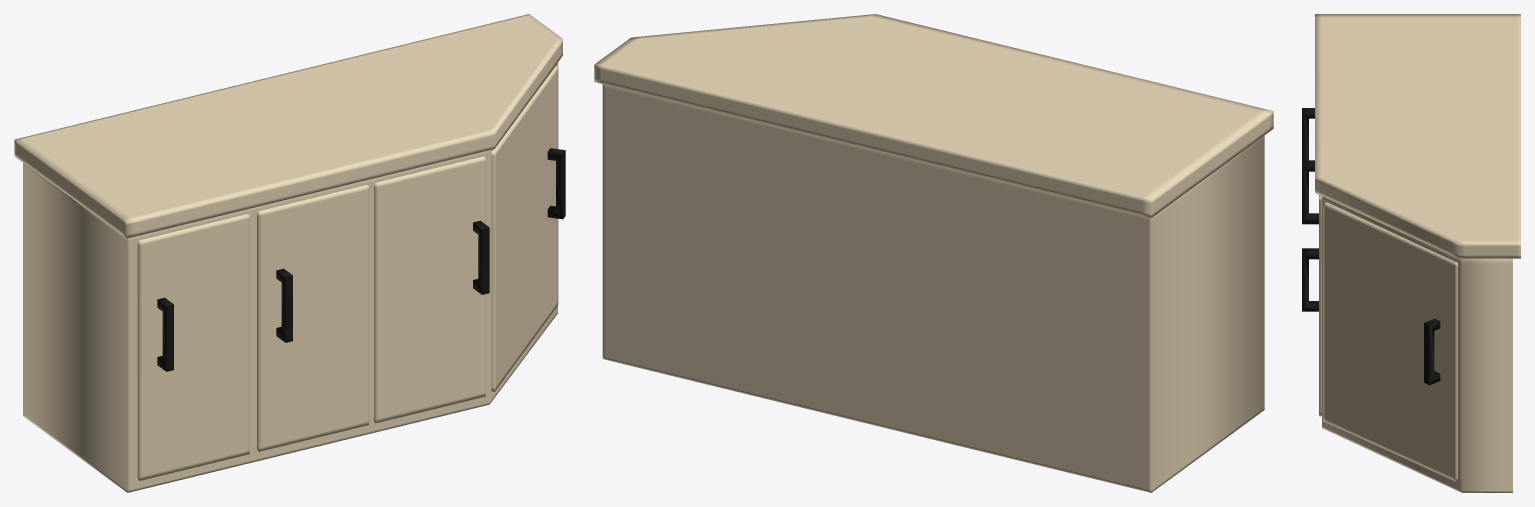
File: smalltable2.fbx
3 views of the same model, side by side, from view 1: azimuth 30°, elevation 25°; view 2: azimuth 150°, elevation 25°; view 3: azimuth 270°, elevation 25° (orthographic). The views are drawn at different scales.
Parts seen in each view (by area): view 1: Cube.349, Cube.350, Cube.346, Cube.351, Cube.344; view 2: Cube.349; view 3: Cube.349, Cube.344, Cube.346, Cube.350, Cube.351.
Part boxes in pixels (x1,y1,x2,y2): Cube.349: (14,14,562,492); Cube.350: (276,268,292,342); Cube.346: (473,220,489,294); Cube.351: (157,297,173,371); Cube.344: (547,148,565,219); Cube.349: (594,14,1273,492); Cube.349: (1315,14,1520,492); Cube.344: (1424,318,1440,385); Cube.346: (1302,248,1318,311); Cube.350: (1302,161,1318,224); Cube.351: (1302,108,1314,160).
Bounding box in the file's own units: 590 × 301 × 238.
